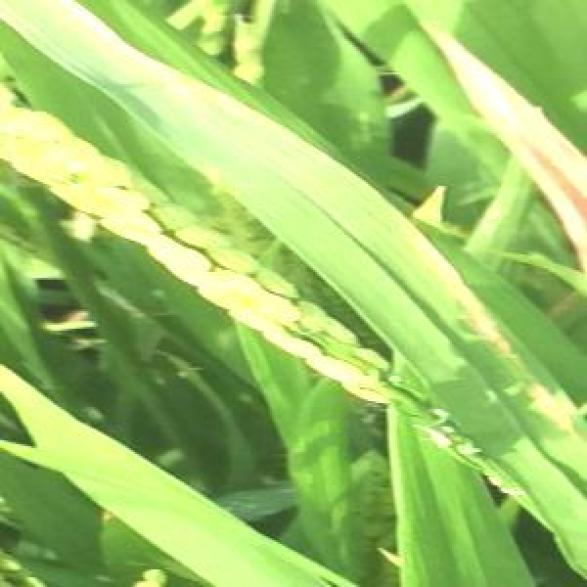Bacteria_Leaf_Blight: (341, 188, 572, 471)
